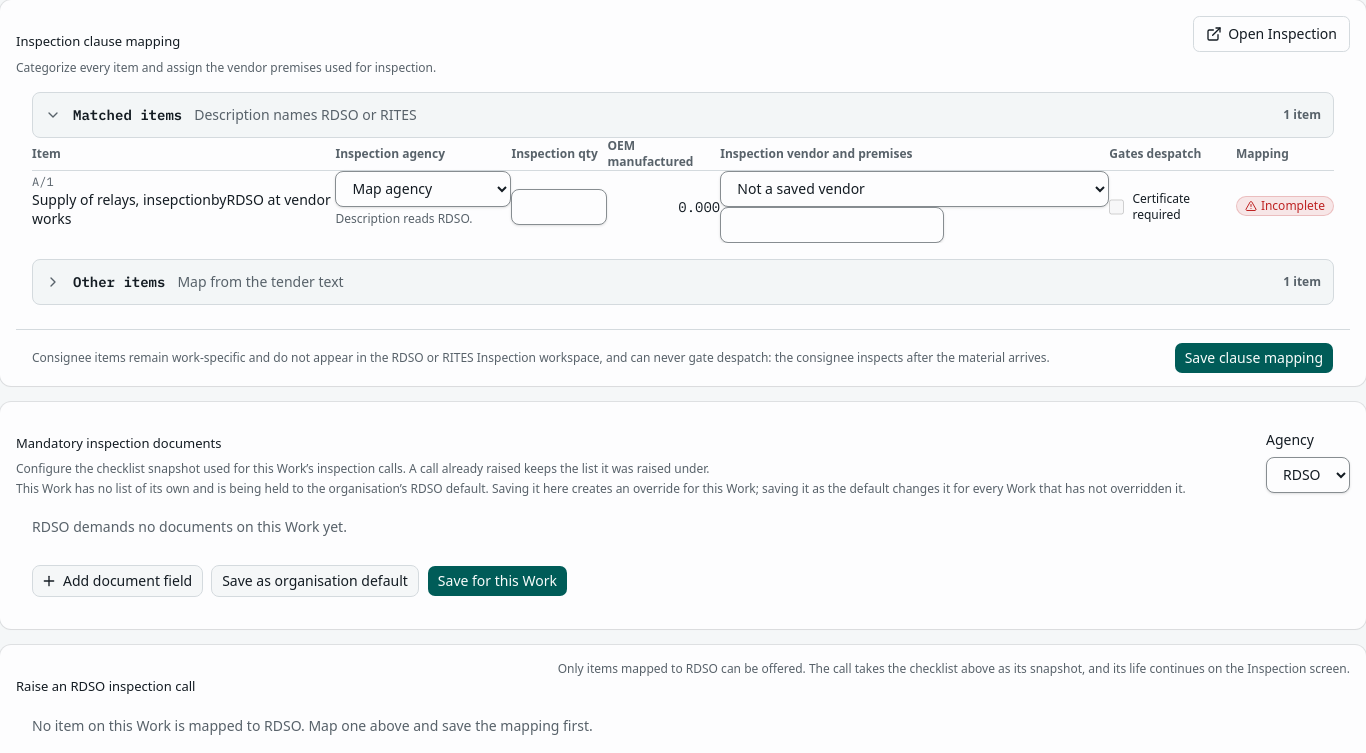
the inspection clause tab › offers the vendor’s primary address first, and keeps the free-text fallback
Expected: the field named "Vendor premises for A/1" is shown, [720,206,944,242]
Select "RailTech Components" in the dropdown named "Inspection vendor for A/1" at (915, 188), box [720,170,1109,206]
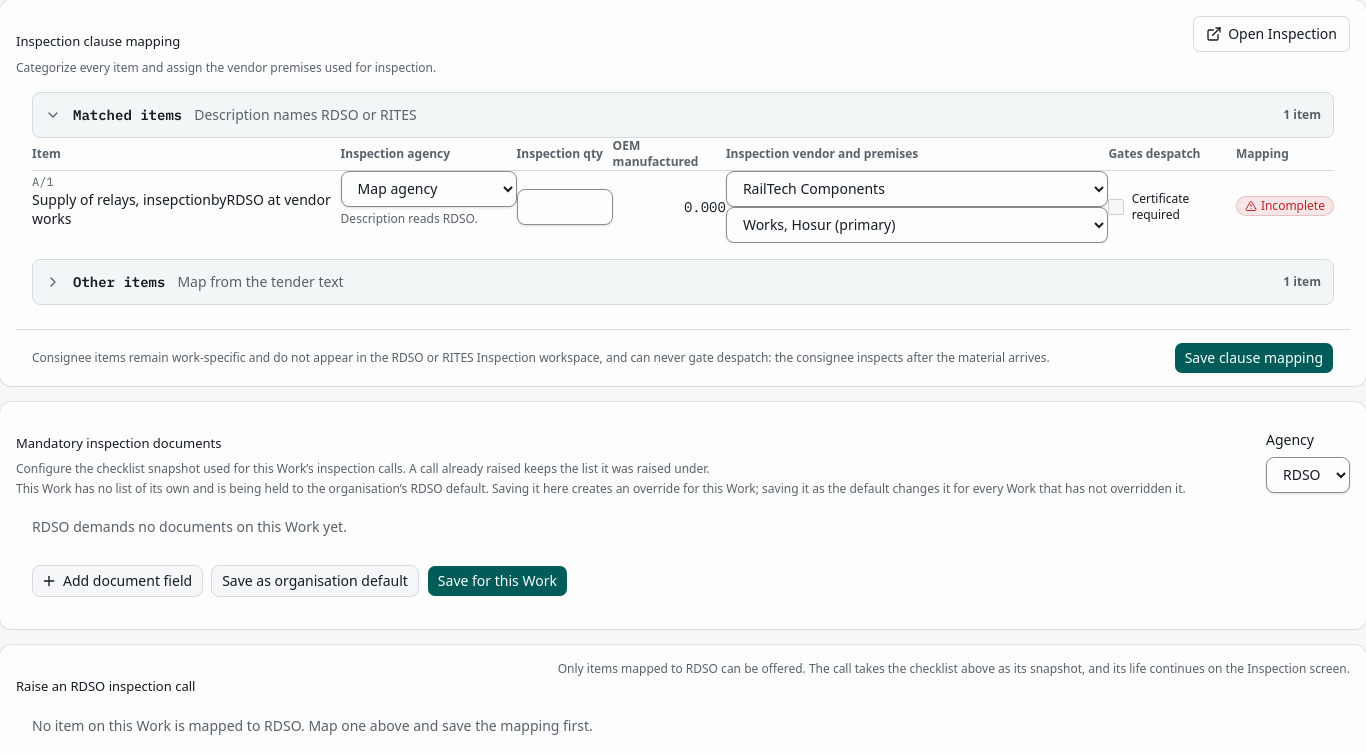
Expected: the dropdown named "Inspection address for A/1" shows "Works, Hosur (primary)"
Select "Type the premises instead" in the dropdown named "Inspection address for A/1" at (917, 224), box [726,206,1108,242]
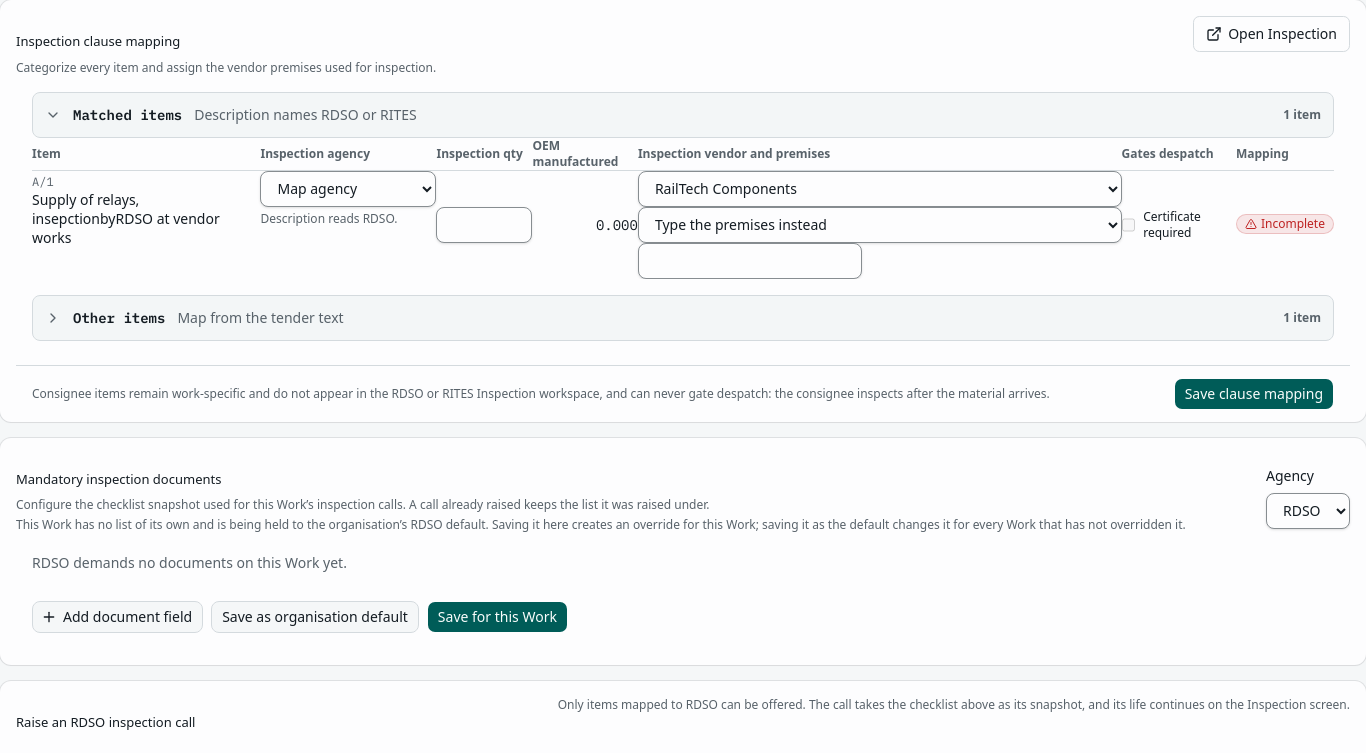
Expected: the field named "Vendor premises for A/1" is shown, [638,242,862,278]
